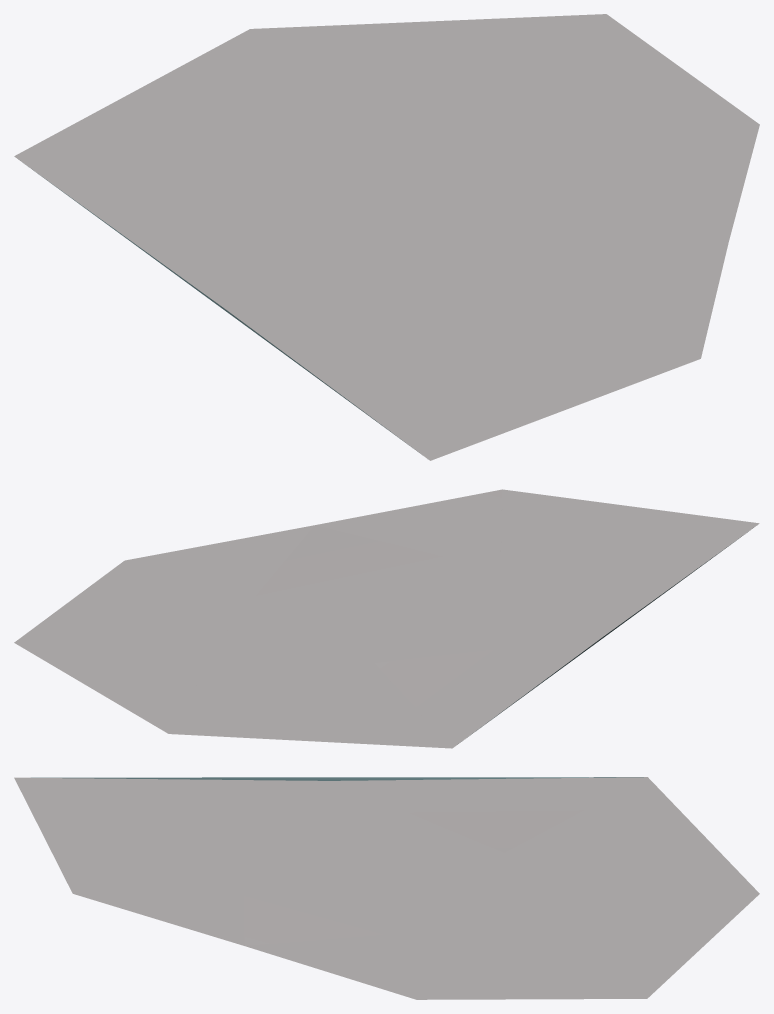
Rendered from QmbwFzjRgscVCUxLG9kgtXvzWhgv82xkCamCYJB24nR5k2_lod2.fbx.
3 renders of one model, top to bottom at view 1: azimuth 30°, elevation 25°; view 2: azimuth 150°, elevation 25°; view 3: azimuth 270°, elevation 25°, orthographic. The views are drawn at different scales.
Visible parts, largest first — view 1: Entity_512; view 2: Entity_512; view 3: Entity_512.
Part boxes in pixels (x1=…): Entity_512: x1=14, y1=14, x2=759, y2=460; Entity_512: x1=14, y1=489, x2=759, y2=748; Entity_512: x1=14, y1=777, x2=759, y2=999.
Size of the model in its own units: 9662 by 42.38 by 13780.
Materials: 1 (1 with a texture image).
